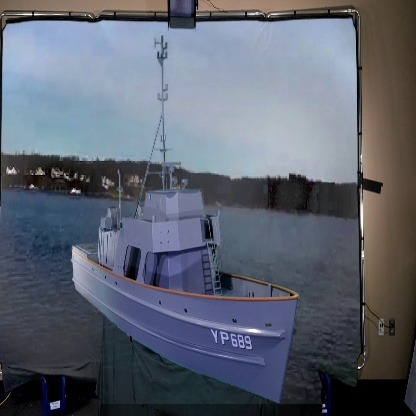YP689: (70, 36, 303, 404)
